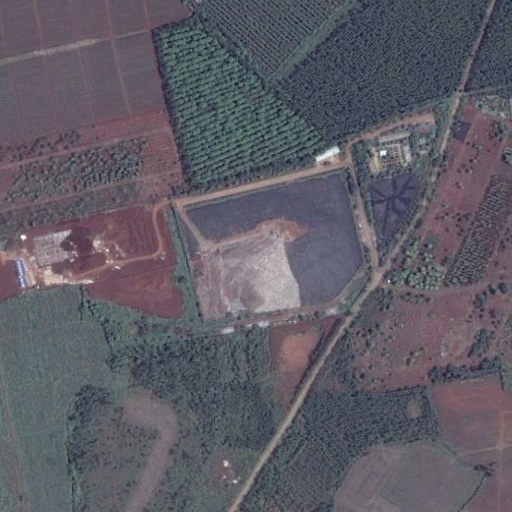lf: (178, 172, 363, 329)
